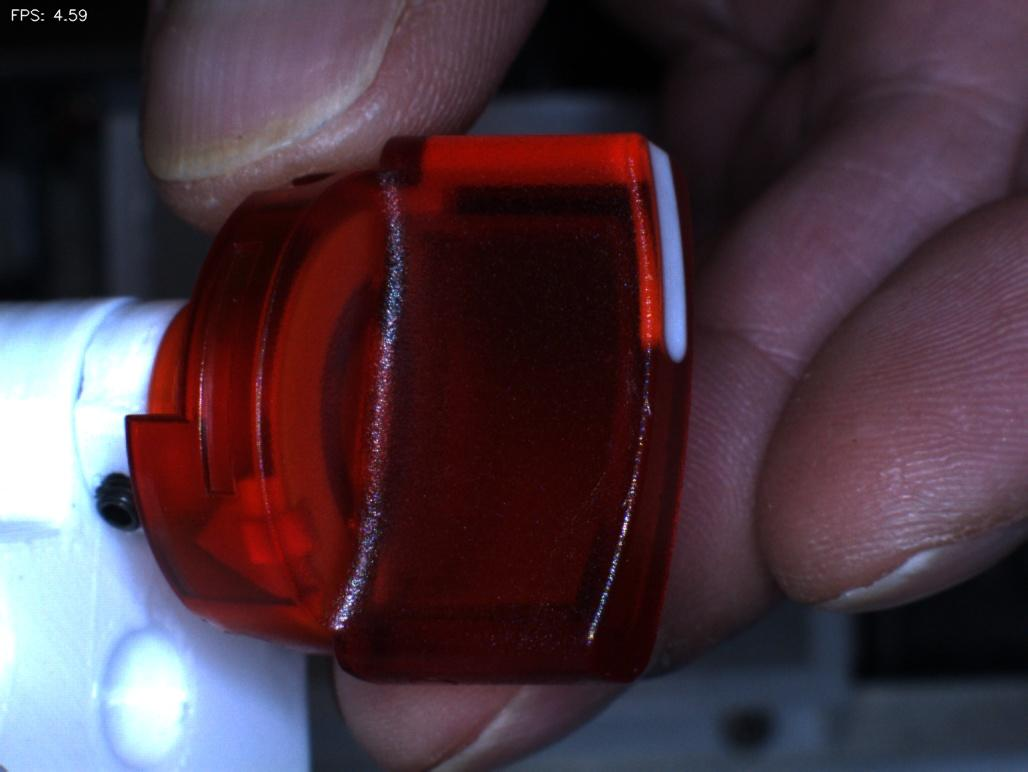Givrage: (588, 342, 665, 461)
